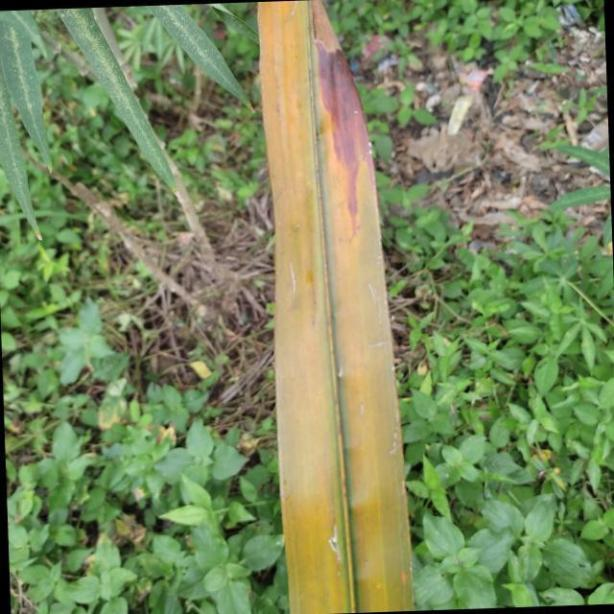Megnesium: (260, 6, 416, 614)
